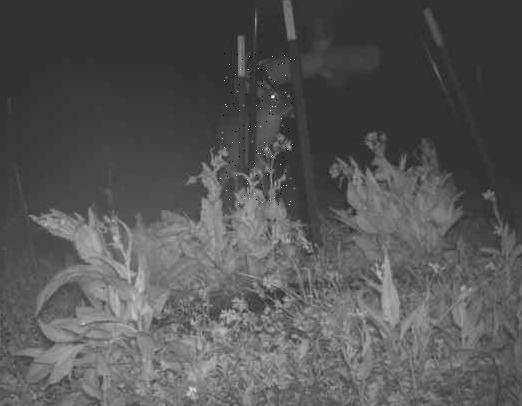Deer: (220, 52, 296, 206)
